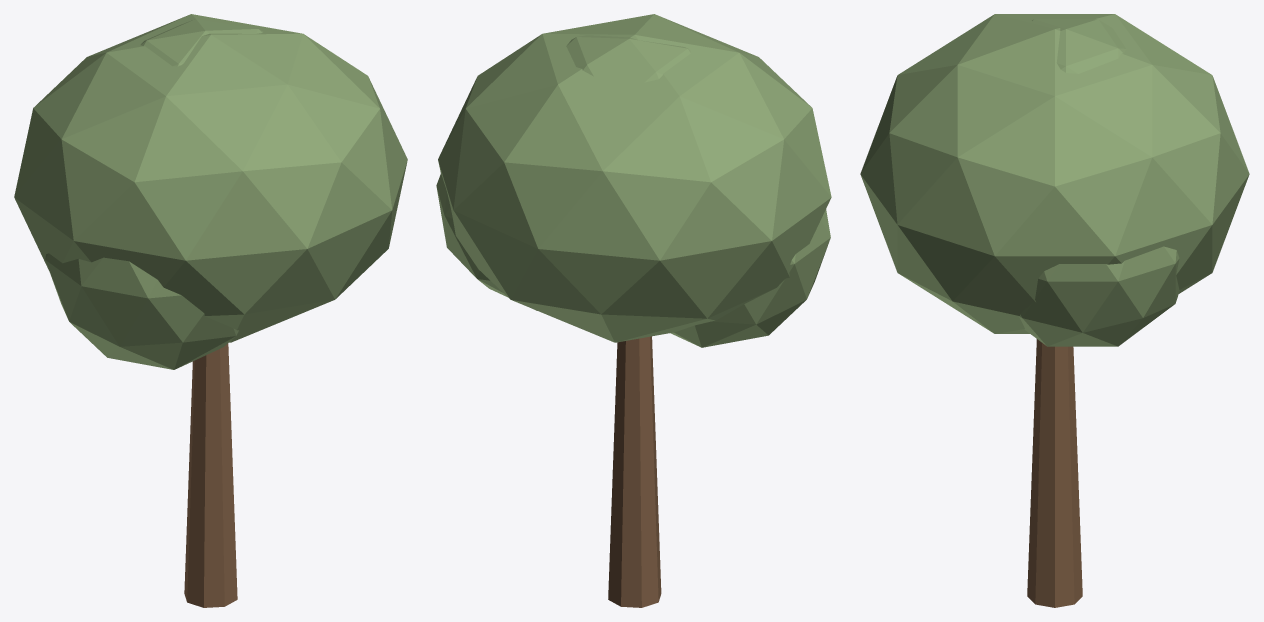
The model's file is tree.glb.
The picture shows the model from 3 angles, left to right: view 1: azimuth 30°, elevation 25°; view 2: azimuth 150°, elevation 25°; view 3: azimuth 270°, elevation 25°; orthographic projection.
Parts seen in each view (by area): view 1: batch-tree-root-green, batch-tree-root-wood; view 2: batch-tree-root-green, batch-tree-root-wood; view 3: batch-tree-root-green, batch-tree-root-wood.
Boxes of the visible parts, x1,y1,x2,y2 form: batch-tree-root-green: (14,14,407,369); batch-tree-root-wood: (184,343,237,607); batch-tree-root-green: (436,14,831,347); batch-tree-root-wood: (608,336,661,607); batch-tree-root-green: (860,14,1249,346); batch-tree-root-wood: (1027,339,1082,607).
Size of the model in its own units: 2.8 by 4.5 by 2.8.
